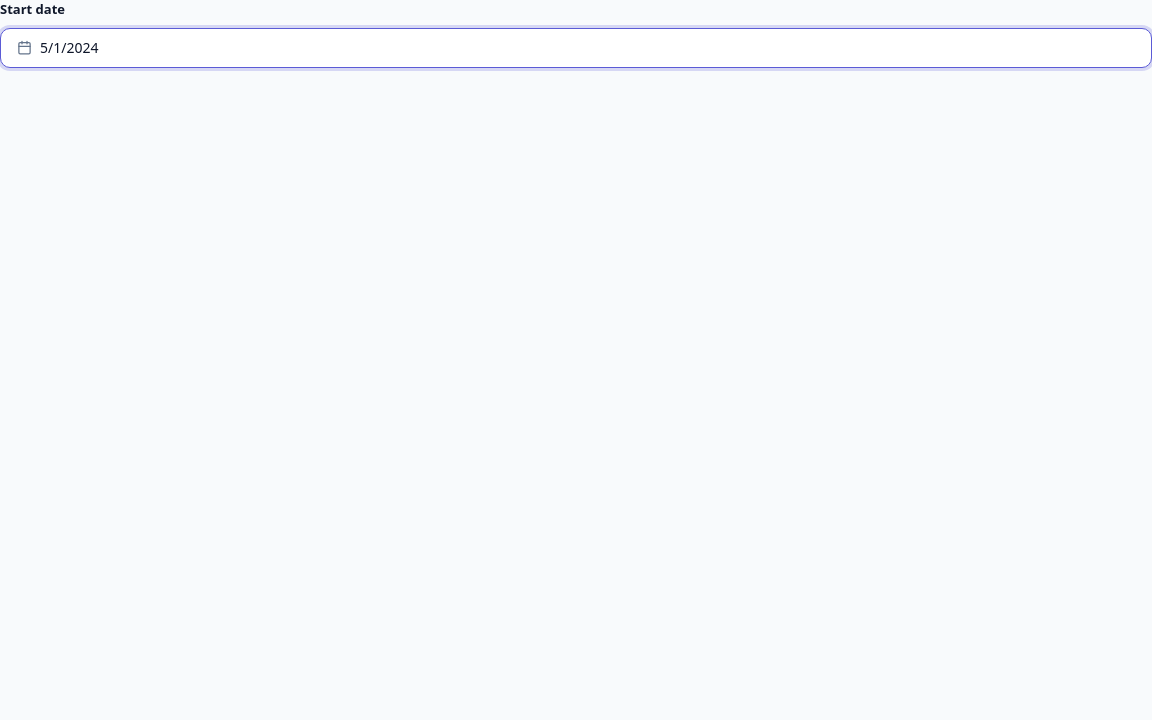
Test: DatePicker › reaches the Calendar grid by keyboard, selects a day, and closes the Popover
Expected: the button named "Start date" reads "5/1/2024", [0, 28, 1151, 68]
Press Enter
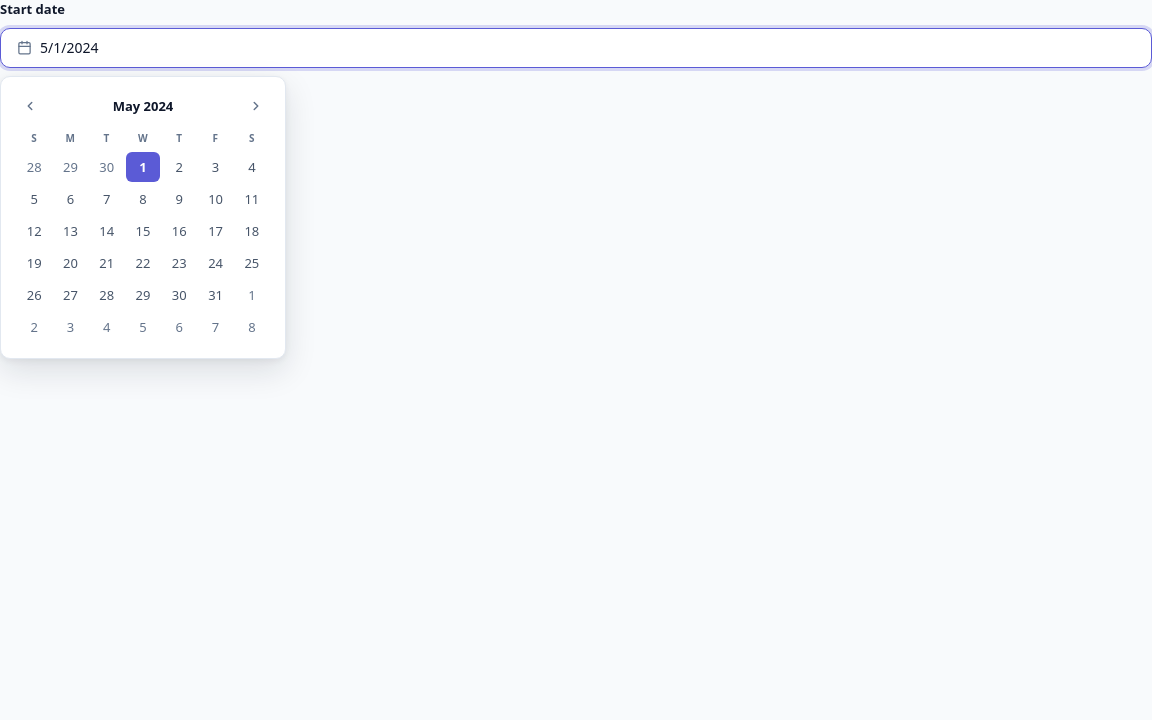
Press Tab
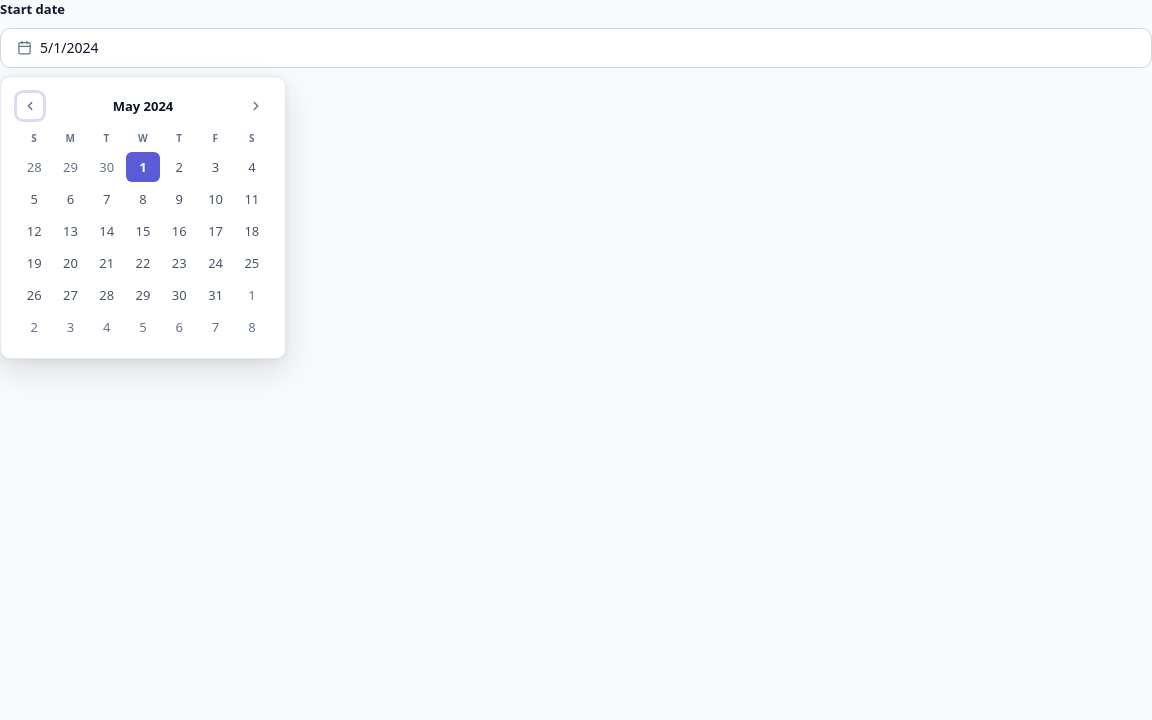
Press Tab
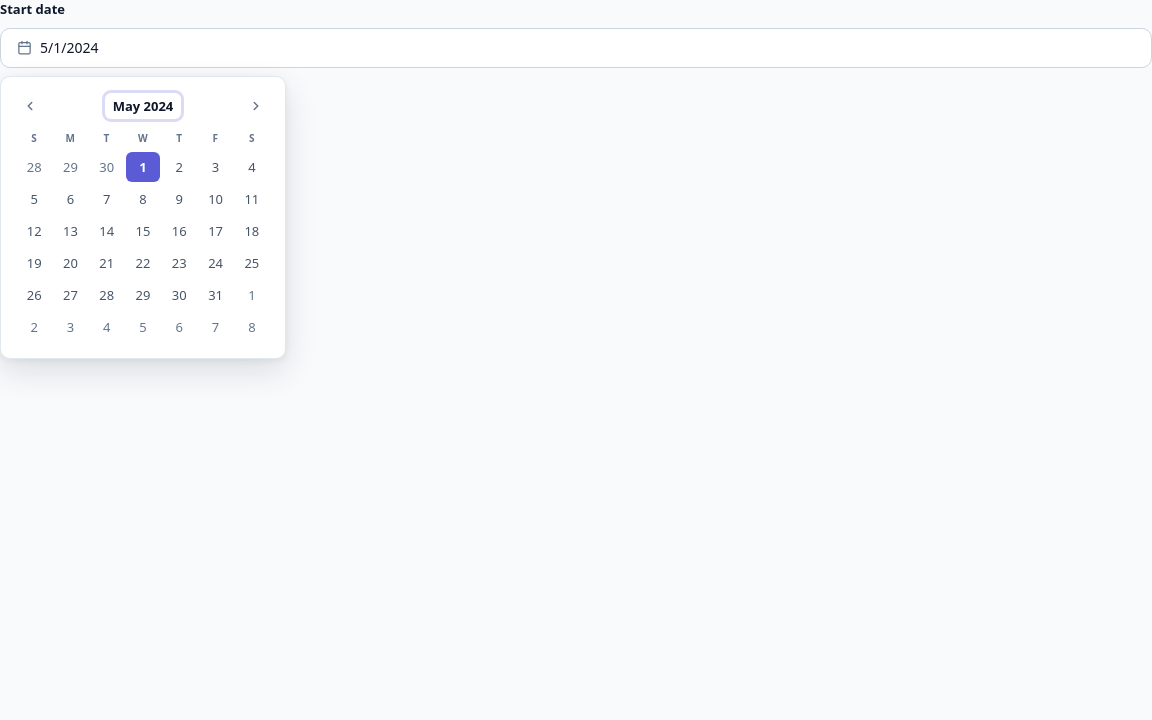
Press Tab
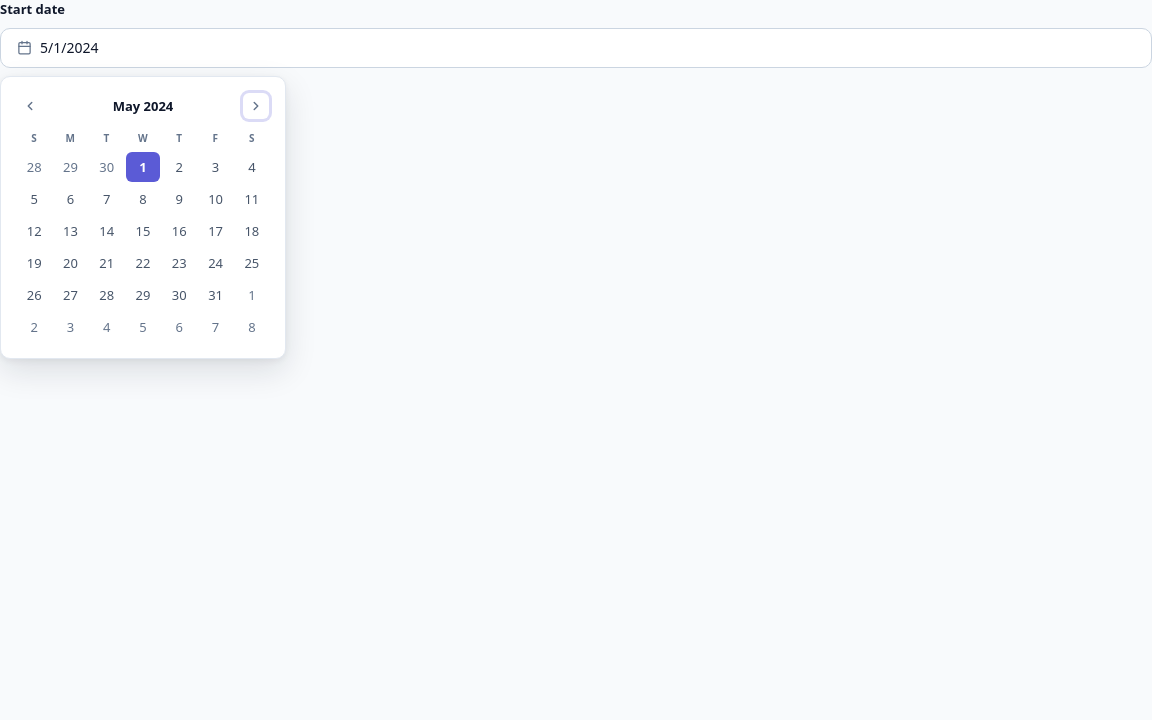
Press Tab
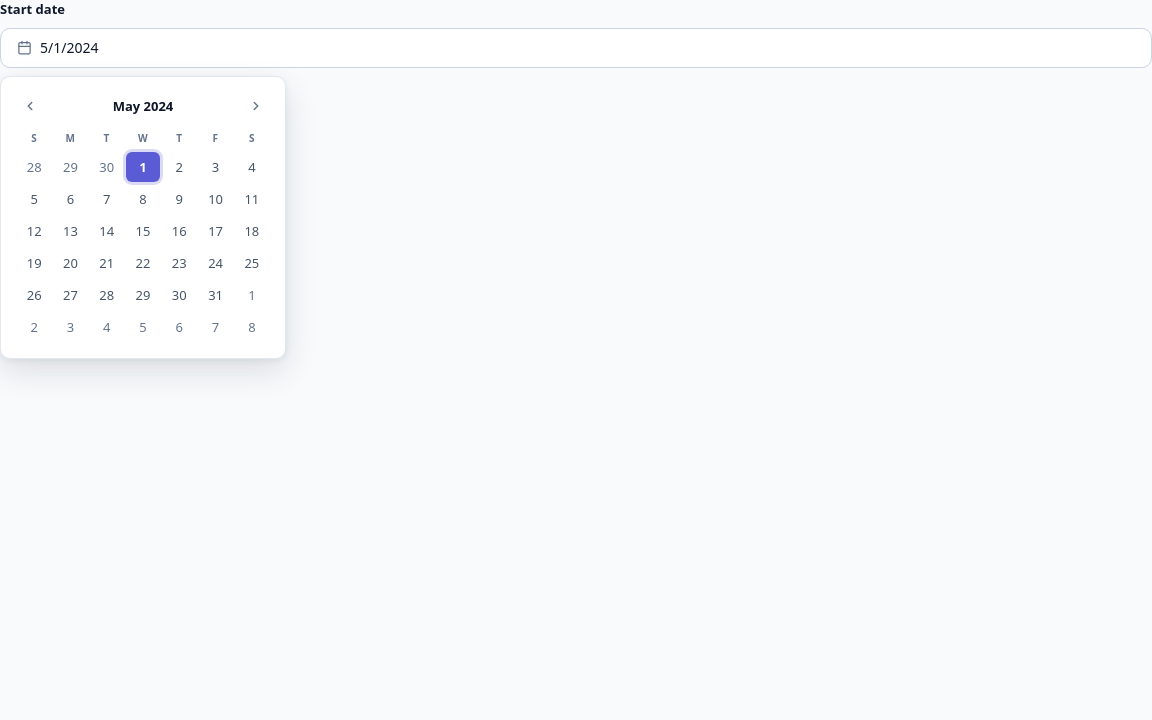
Click the button named "Wednesday, May 15, 2024" at (143, 230), box [126, 216, 160, 246]
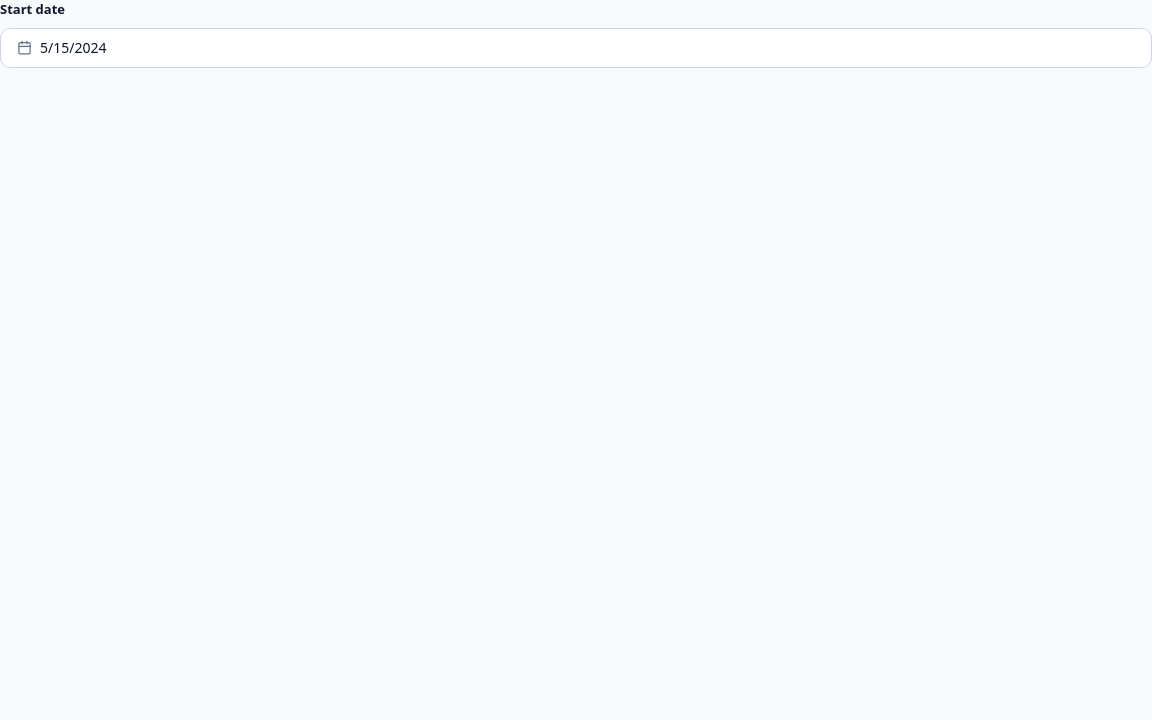
Expected: the dialog with class "lyra-popover" is gone
